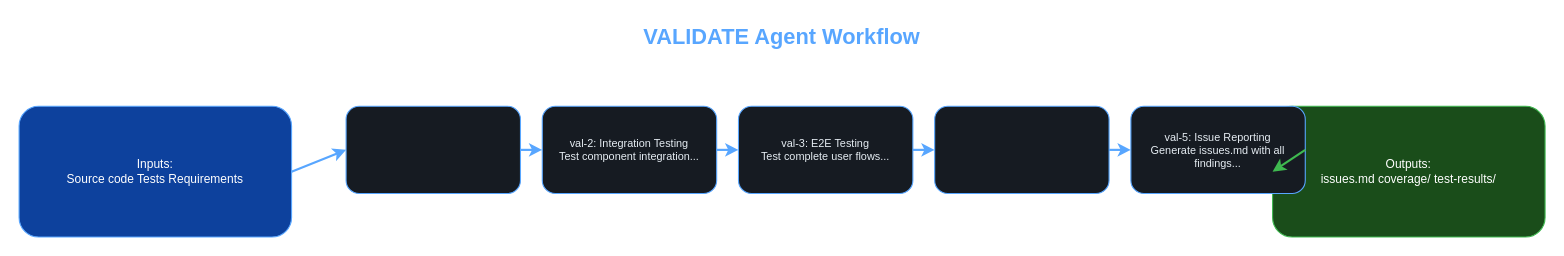
Image size: 1564x256. Some labels were removed from this diagram. The box of each missing label's shape, as (x1, y1, x2, y2) in pixels:
val-1: Unit Test Execution Run all unit tests...: (345, 105, 520, 193)
val-4: Coverage Analysis Measure test coverage...: (934, 105, 1109, 193)
